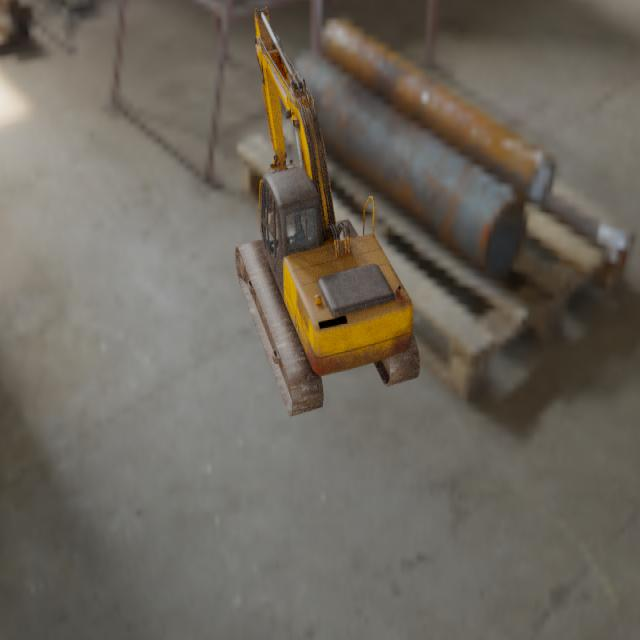excavator: (234, 5, 420, 418)
